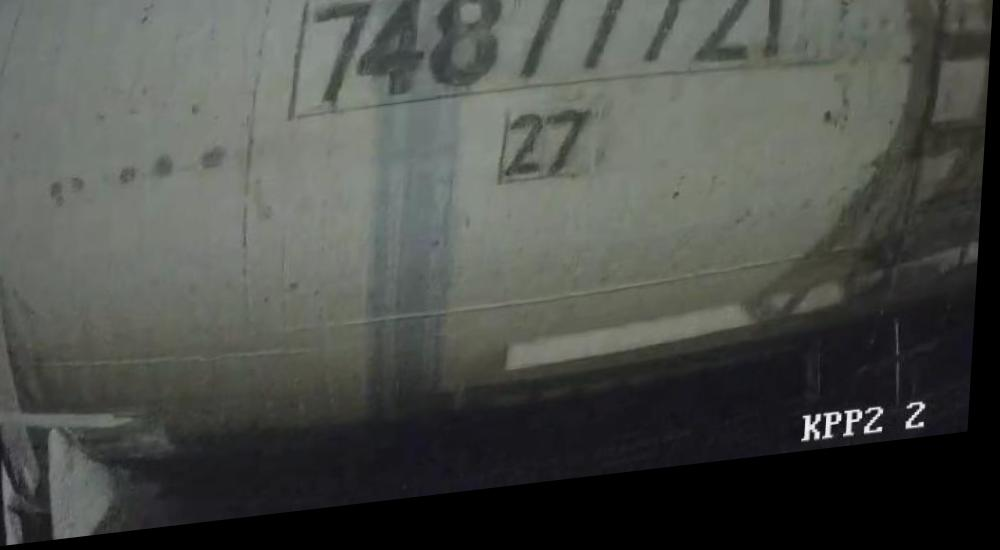Wagon-number: (301, 0, 798, 128)
